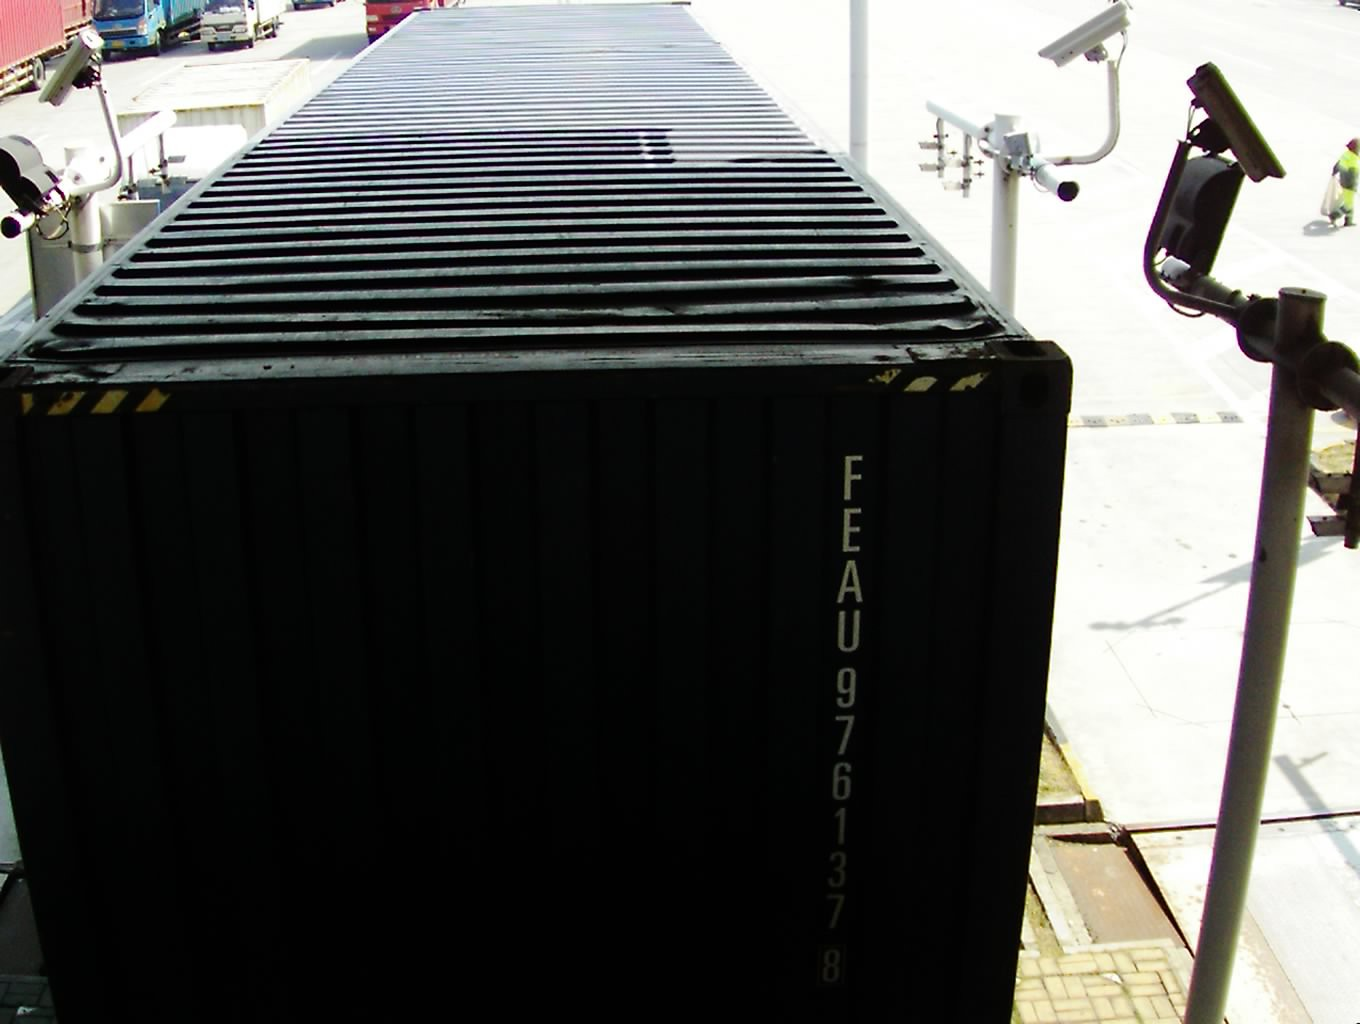words: (819, 443, 868, 993)
